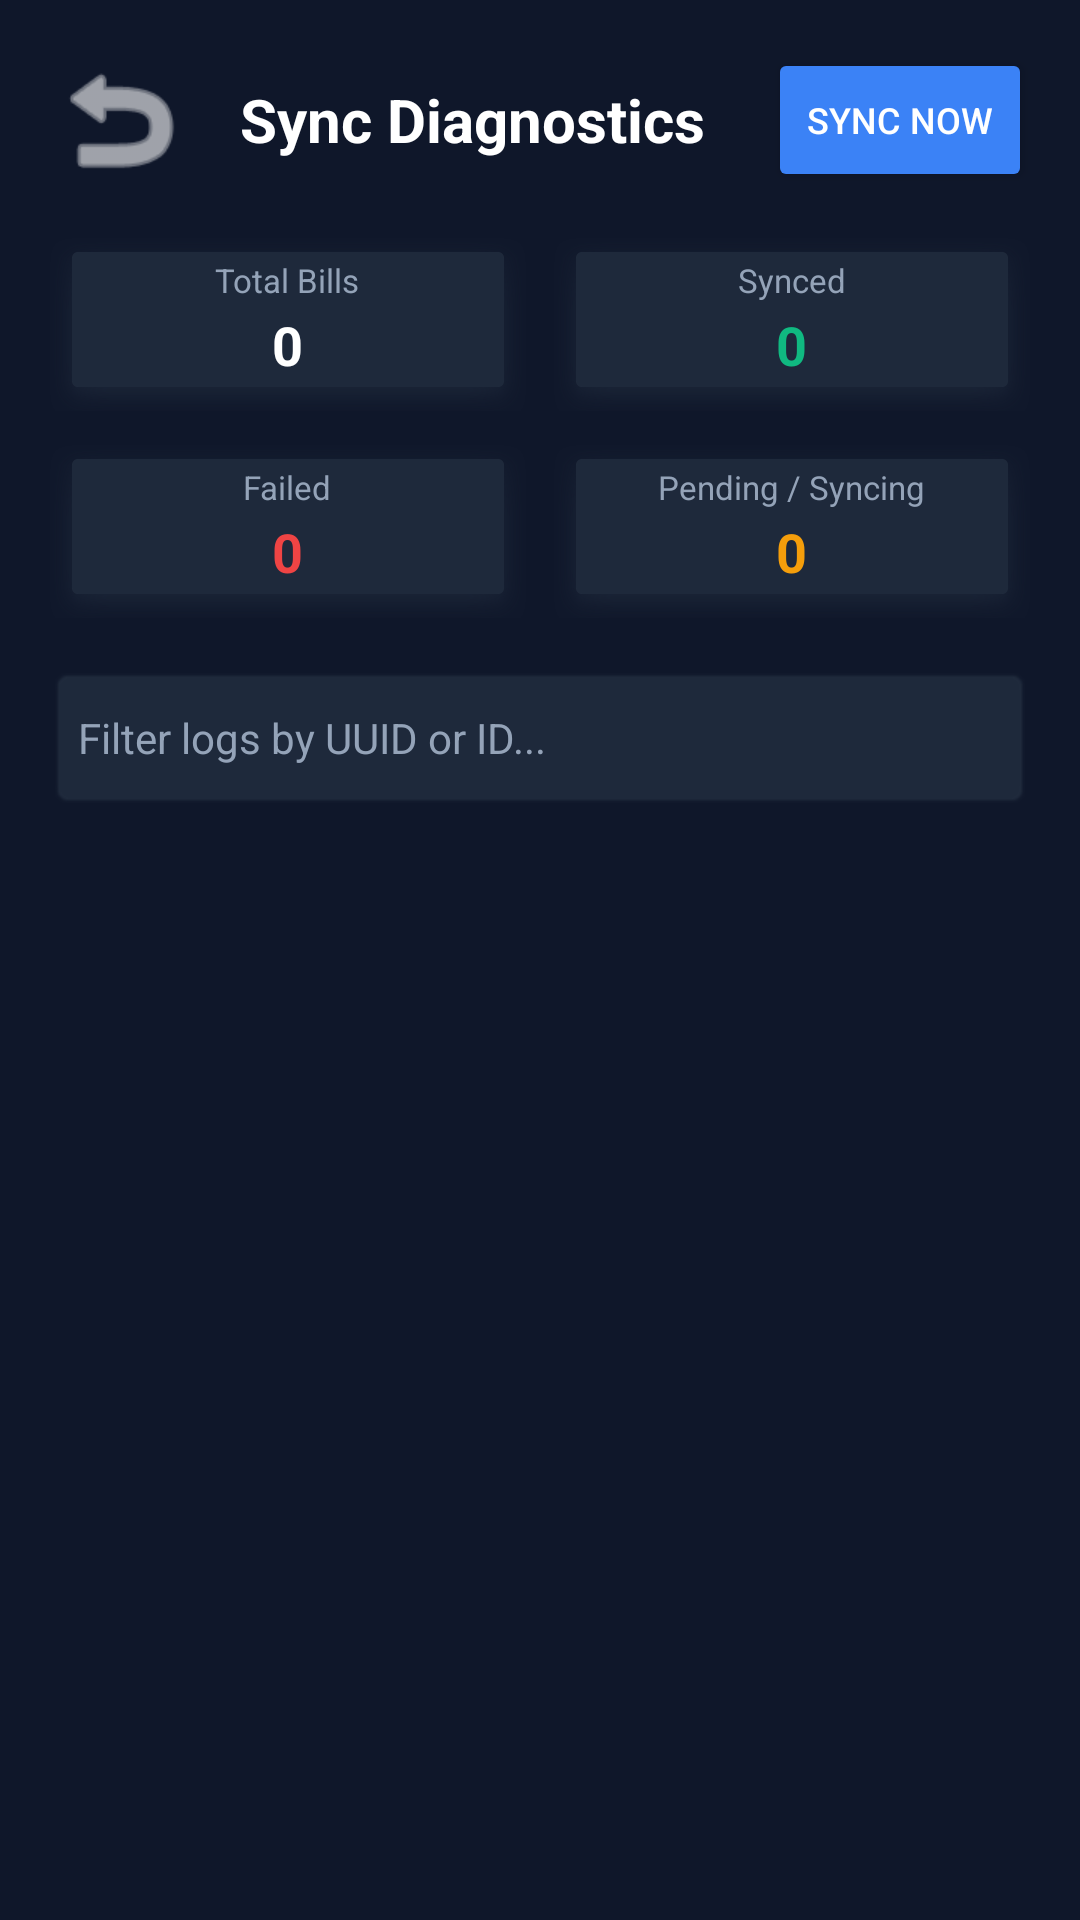

Icon click points for this 1080px×1920px phone screenshot, format (x,y):
revert: (122,121)
